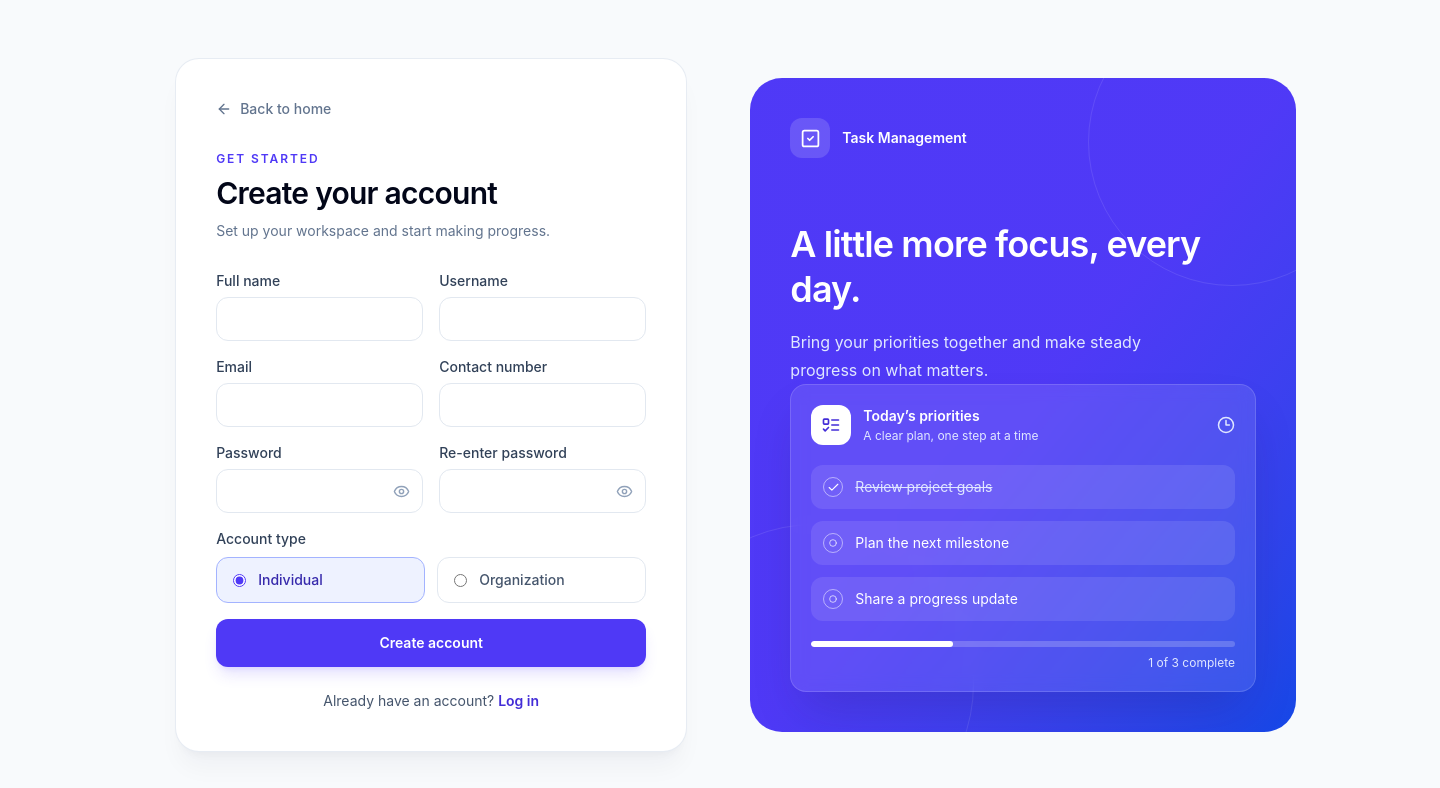
it: authentication routes › shows backend registration validation errors beside the matching field
In the field labelled "Full name": [320, 319] box [216,297,423,341], type "Vincent"
In the field labelled "Username": [543, 319] box [439,297,646,341], type "vincent275"
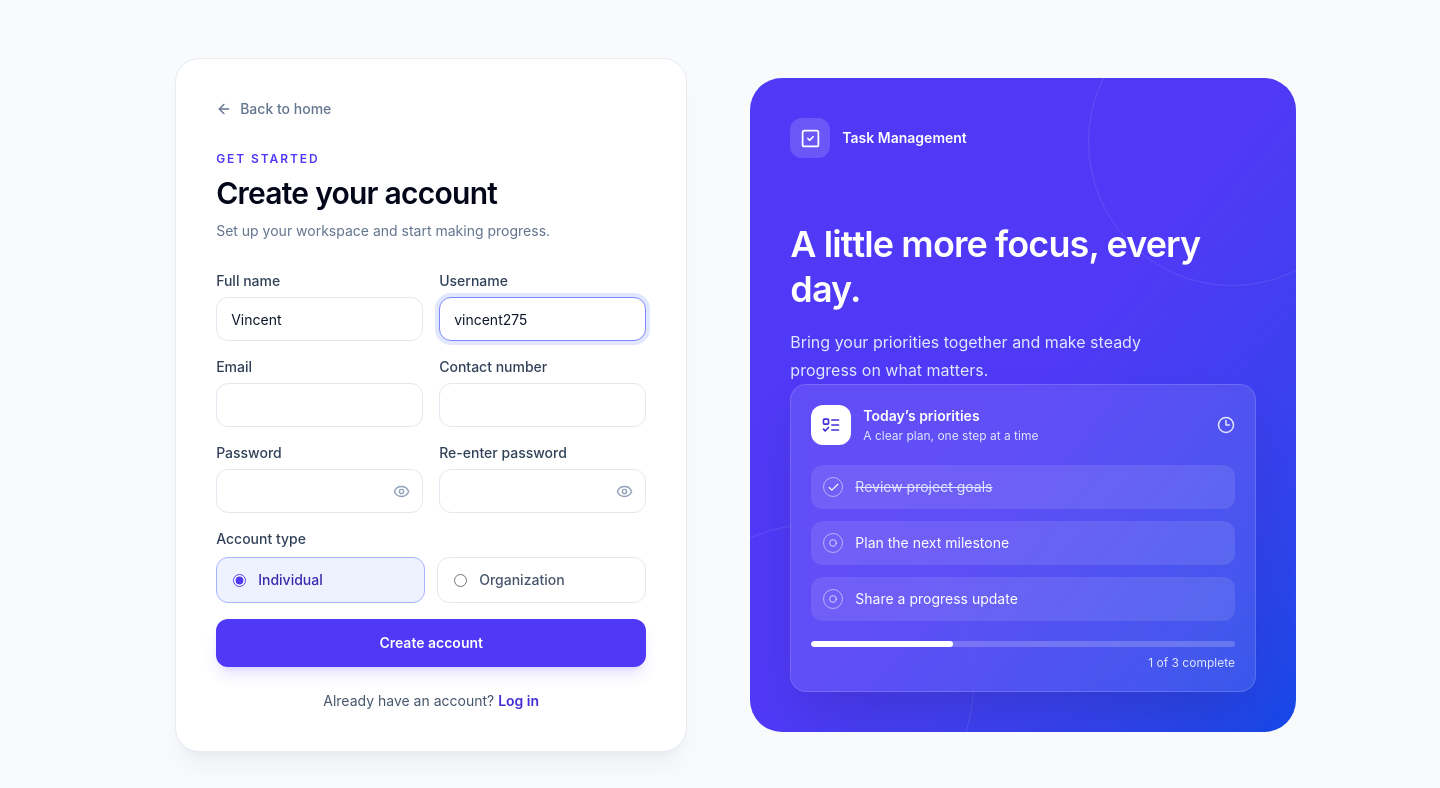
In the field labelled "Email": [320, 405] box [216,383,423,427], type "vincent275@gmail.com"
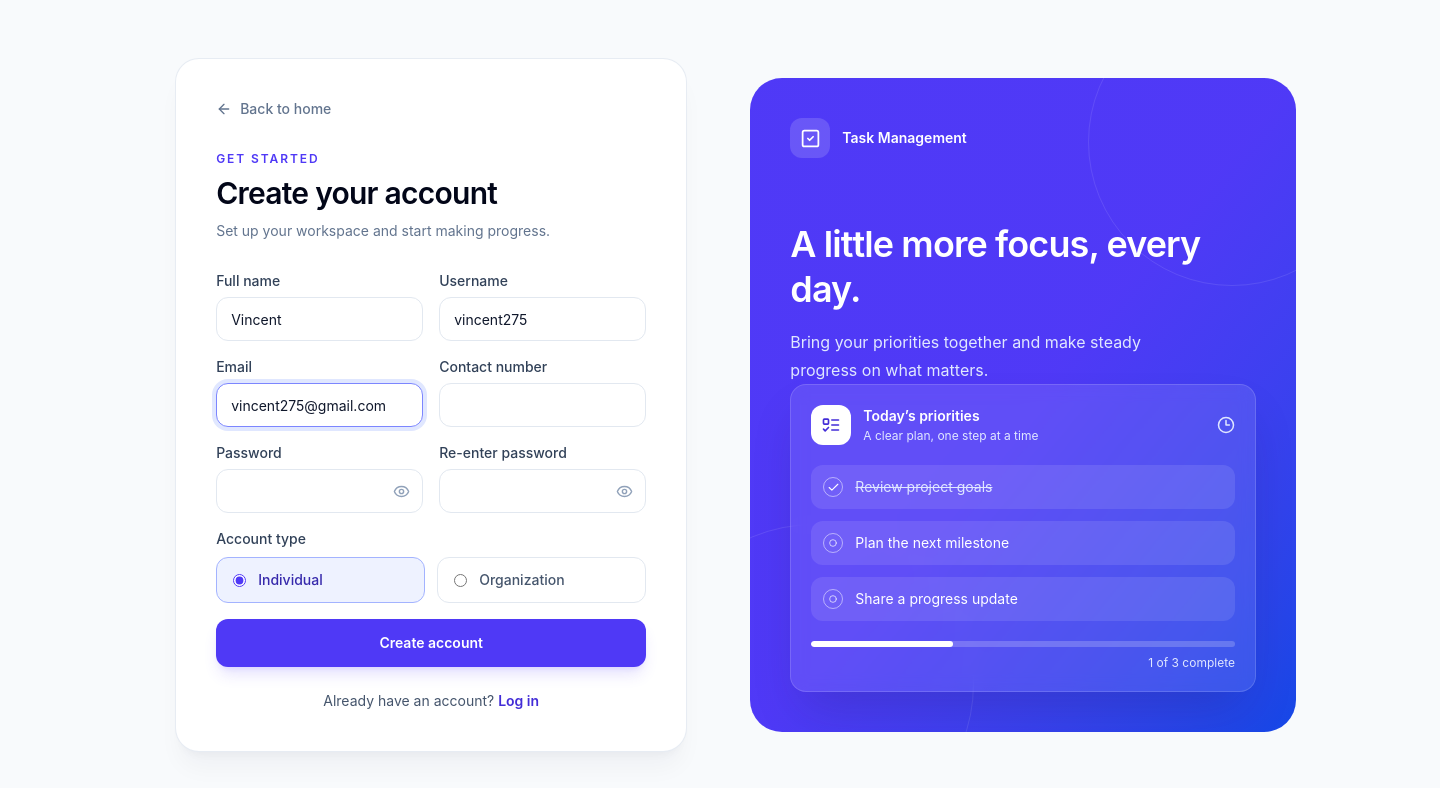
In the password field labelled "Password": [320, 491] box [216,469,423,513], type "Vincent275!"
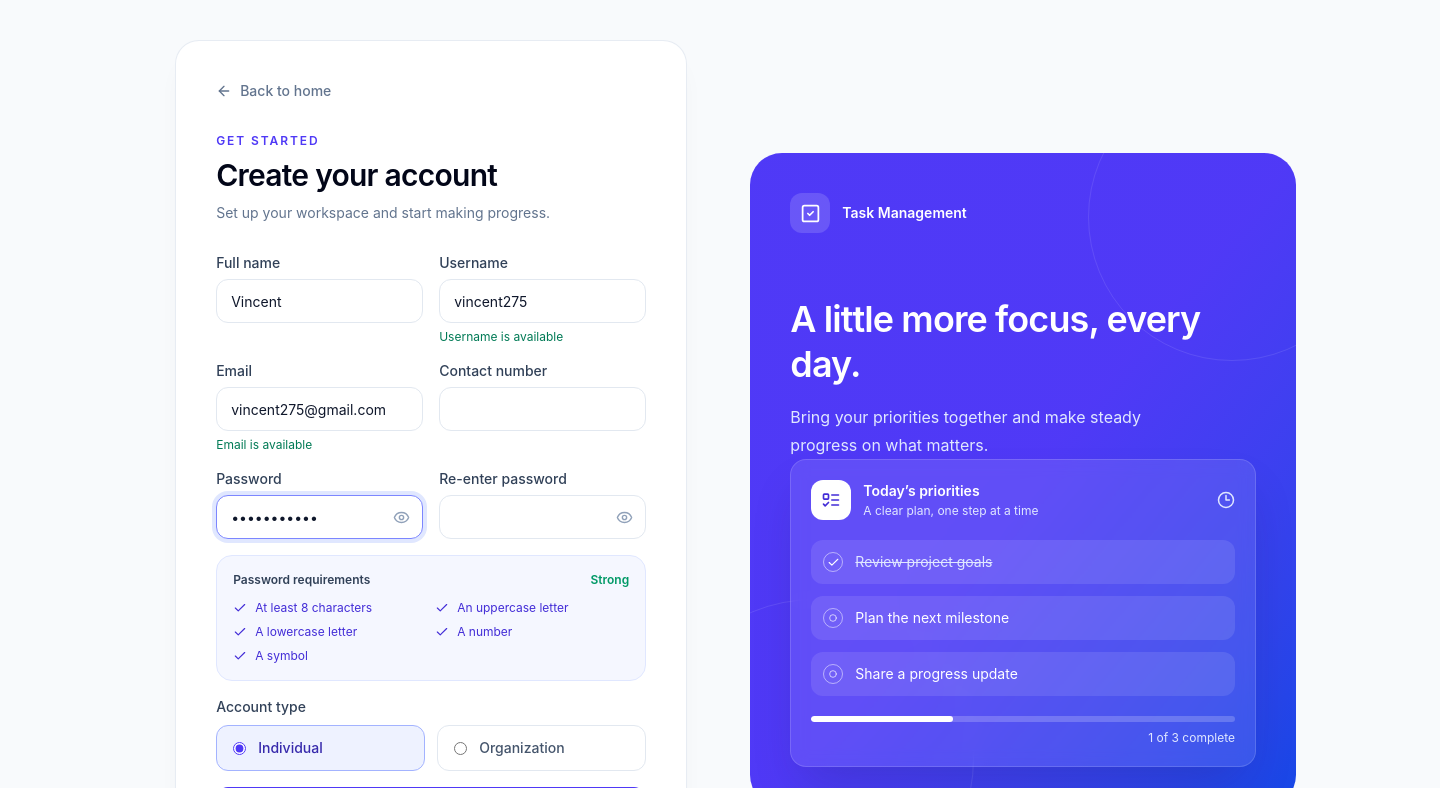
In the password field labelled "Re-enter password": [543, 517] box [439,495,646,539], type "Vincent275!"
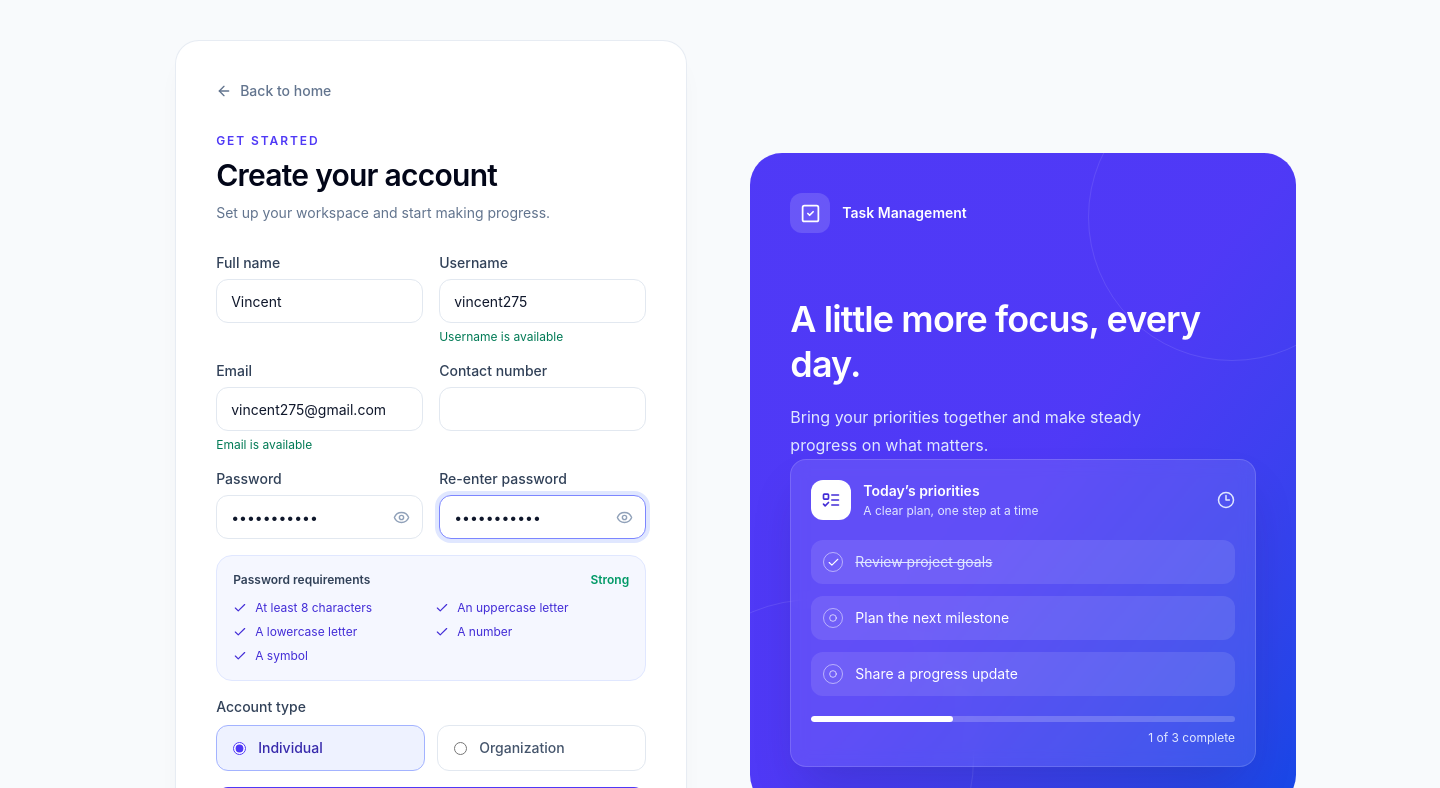
In the field labelled "Contact number": [543, 409] box [439,387,646,431], type "001234567"
(page scrolled)
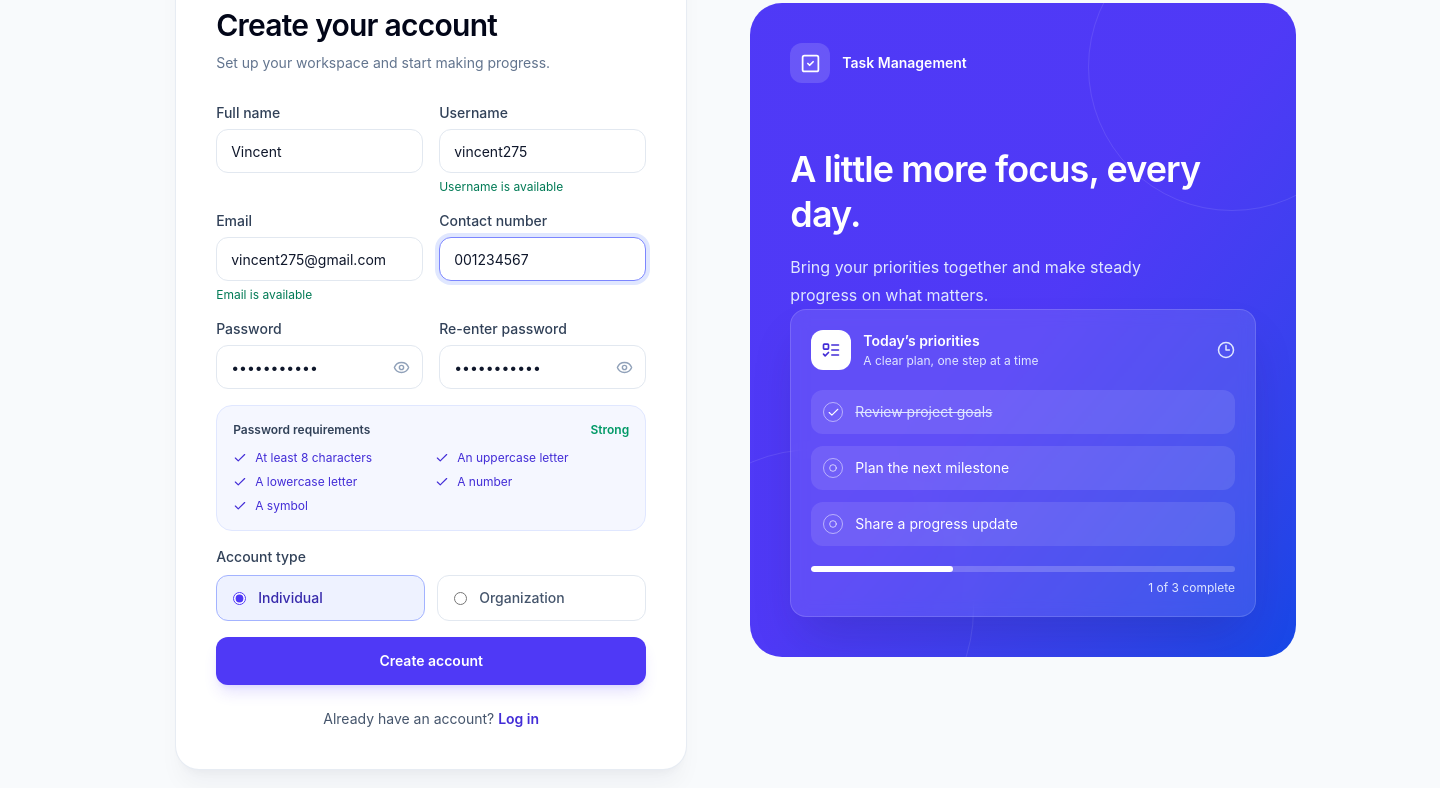
Click the button "Create account": [431, 661] box [216,637,646,685]
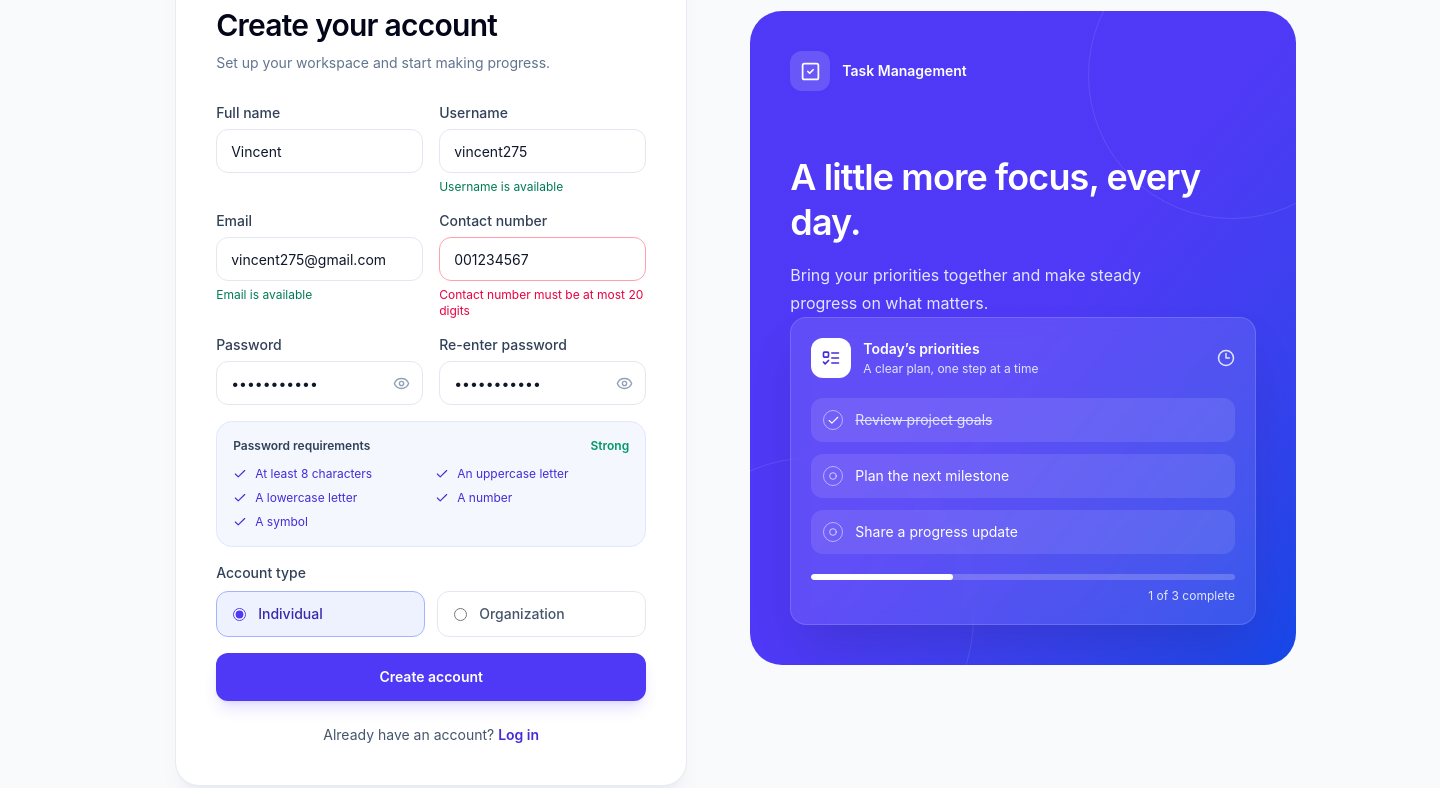
Result: the text "Contact number must be at most 20 digits" is shown at [439,287,646,319]
